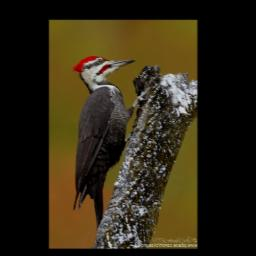Woodpecker: (72, 56, 149, 234)
